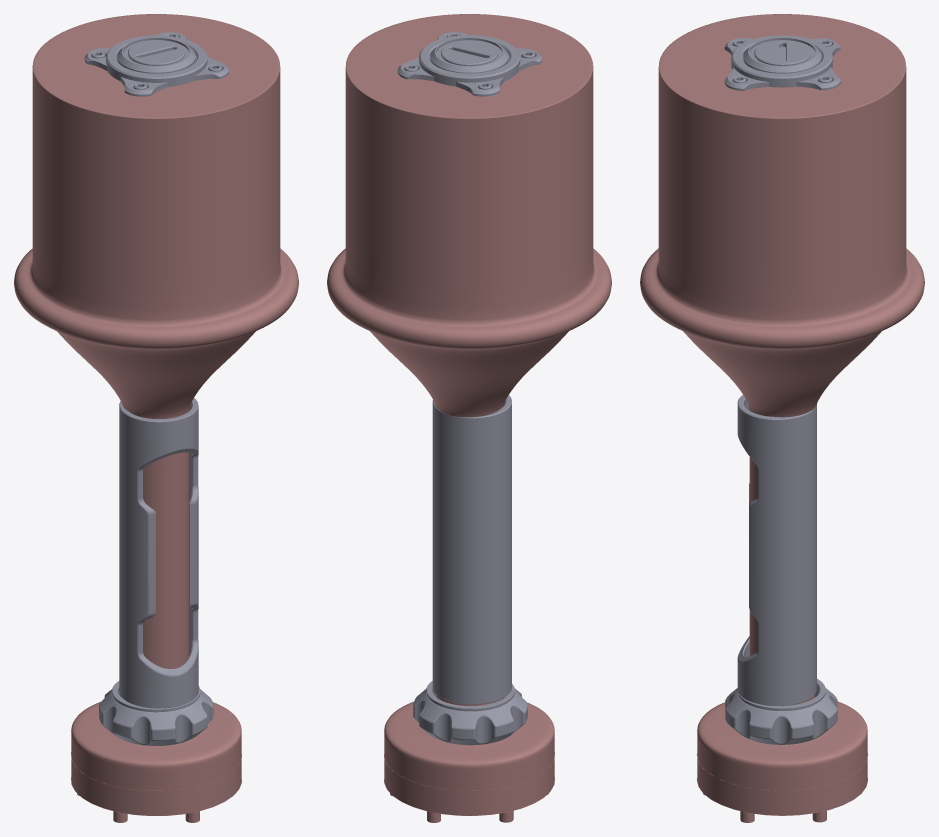
File: sauce_dispenser.glb
The picture shows the model from 3 angles, left to right: view 1: azimuth 30°, elevation 25°; view 2: azimuth 150°, elevation 25°; view 3: azimuth 270°, elevation 25°; orthographic projection.
Parts seen in each view (by area): view 1: Cylinder.006_8, OU_Hard_Surface_41_1, OU_Hard_Surface_39_0, Cylinder.005_7, OU_Hard_Surface_1098_3, OU_Hard_Surface_1097_2; view 2: Cylinder.006_8, OU_Hard_Surface_41_1, OU_Hard_Surface_39_0, Cylinder.005_7, OU_Hard_Surface_1098_3, OU_Hard_Surface_1097_2; view 3: Cylinder.006_8, OU_Hard_Surface_41_1, OU_Hard_Surface_39_0, Cylinder.005_7, OU_Hard_Surface_1098_3, OU_Hard_Surface_1097_2.
Boxes of the visible parts, x1=… form: Cylinder.006_8: x1=14, y1=14, x2=298, y2=790; OU_Hard_Surface_41_1: x1=119, y1=398, x2=198, y2=708; OU_Hard_Surface_39_0: x1=99, y1=681, x2=213, y2=745; Cylinder.005_7: x1=71, y1=759, x2=241, y2=815; OU_Hard_Surface_1098_3: x1=84, y1=32, x2=228, y2=96; OU_Hard_Surface_1097_2: x1=117, y1=37, x2=195, y2=73; Cylinder.006_8: x1=327, y1=14, x2=611, y2=790; OU_Hard_Surface_41_1: x1=432, y1=395, x2=511, y2=704; OU_Hard_Surface_39_0: x1=413, y1=681, x2=527, y2=745; Cylinder.005_7: x1=384, y1=759, x2=554, y2=815; OU_Hard_Surface_1098_3: x1=397, y1=32, x2=541, y2=96; OU_Hard_Surface_1097_2: x1=430, y1=37, x2=508, y2=73; Cylinder.006_8: x1=640, y1=14, x2=924, y2=790; OU_Hard_Surface_41_1: x1=737, y1=395, x2=816, y2=705; OU_Hard_Surface_39_0: x1=725, y1=679, x2=837, y2=744; Cylinder.005_7: x1=696, y1=758, x2=868, y2=815; OU_Hard_Surface_1098_3: x1=724, y1=35, x2=840, y2=90; OU_Hard_Surface_1097_2: x1=743, y1=37, x2=821, y2=73.
Bounding box in the file's own units: 0.9401 × 2.7 × 0.9401.
